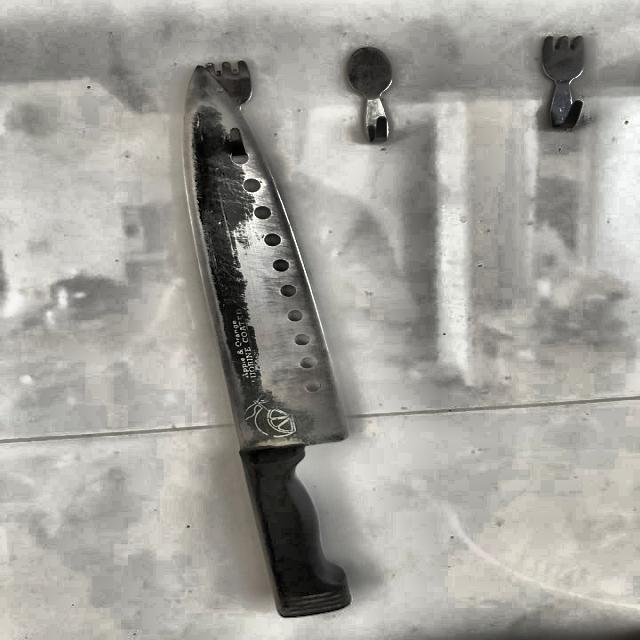knife: (182, 64, 359, 620)
